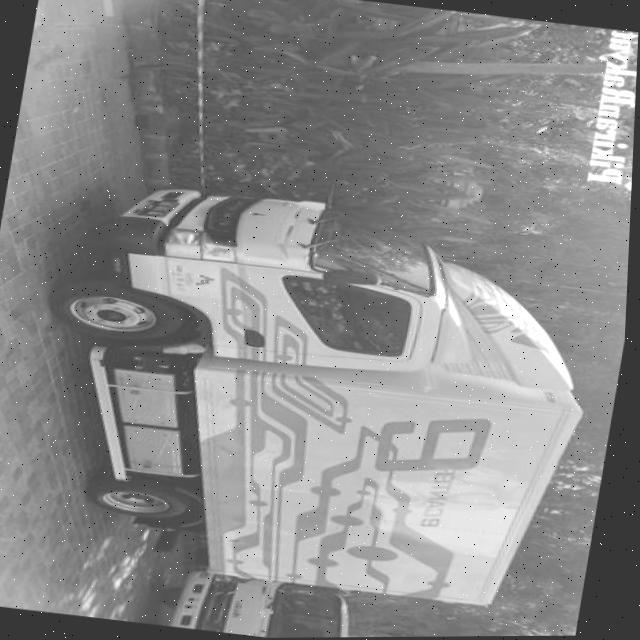truck: (22, 173, 612, 617)
